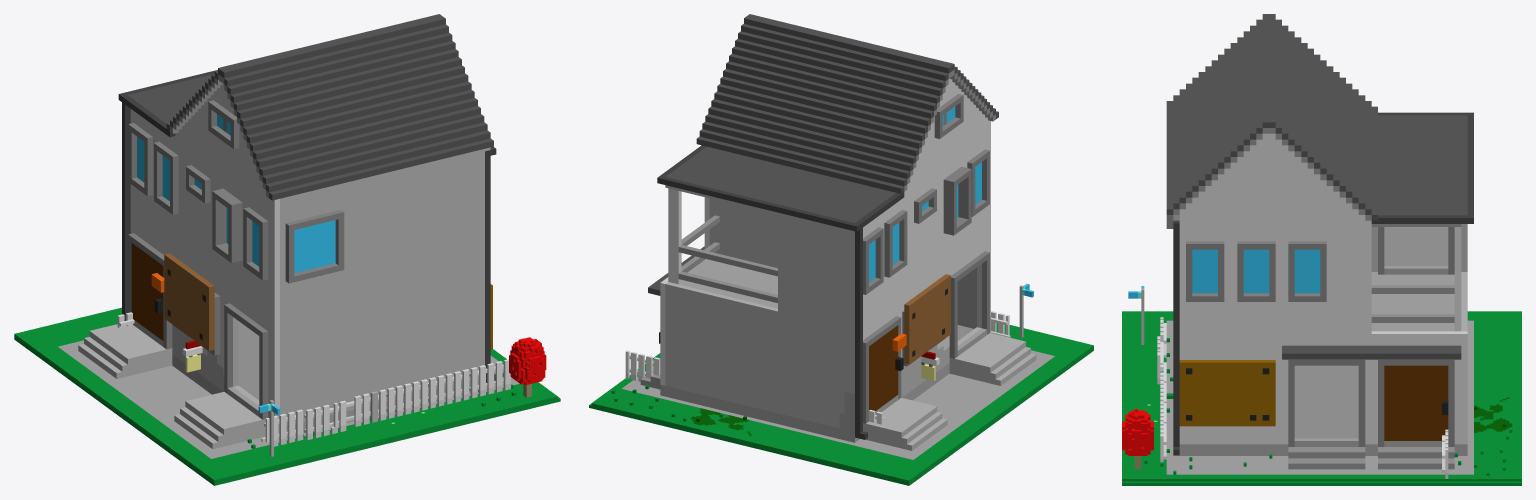
Rendered from Level01-0.obj.
3 views of the same model, side by side, from view 1: azimuth 30°, elevation 25°; view 2: azimuth 150°, elevation 25°; view 3: azimuth 270°, elevation 25° (orthographic). The views are drawn at different scales.
Parts seen in each view (by area): view 1: Level01-0; view 2: Level01-0; view 3: Level01-0.
Part boxes in pixels (x1,y1,x2,y2): Level01-0: (14,14,560,485); Level01-0: (589,14,1093,485); Level01-0: (1122,14,1521,485).
Size of the model in its own units: 125 by 118 by 125.
1 material, 1 textured.
